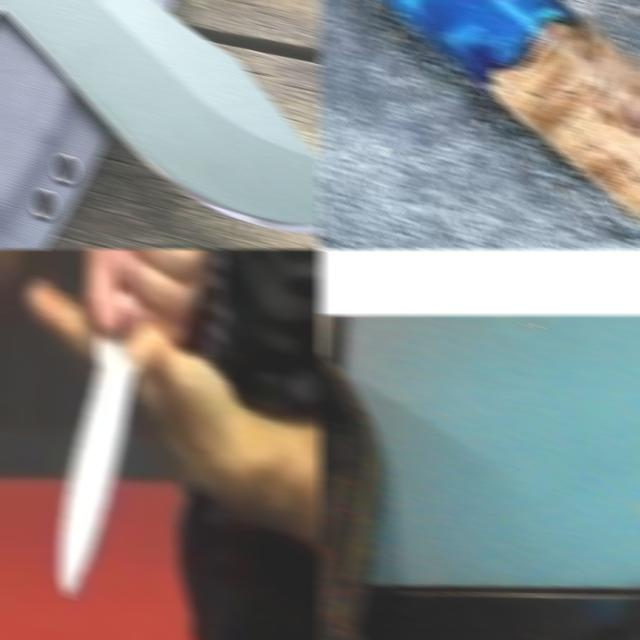Knife_Handle: (58, 248, 186, 598)
